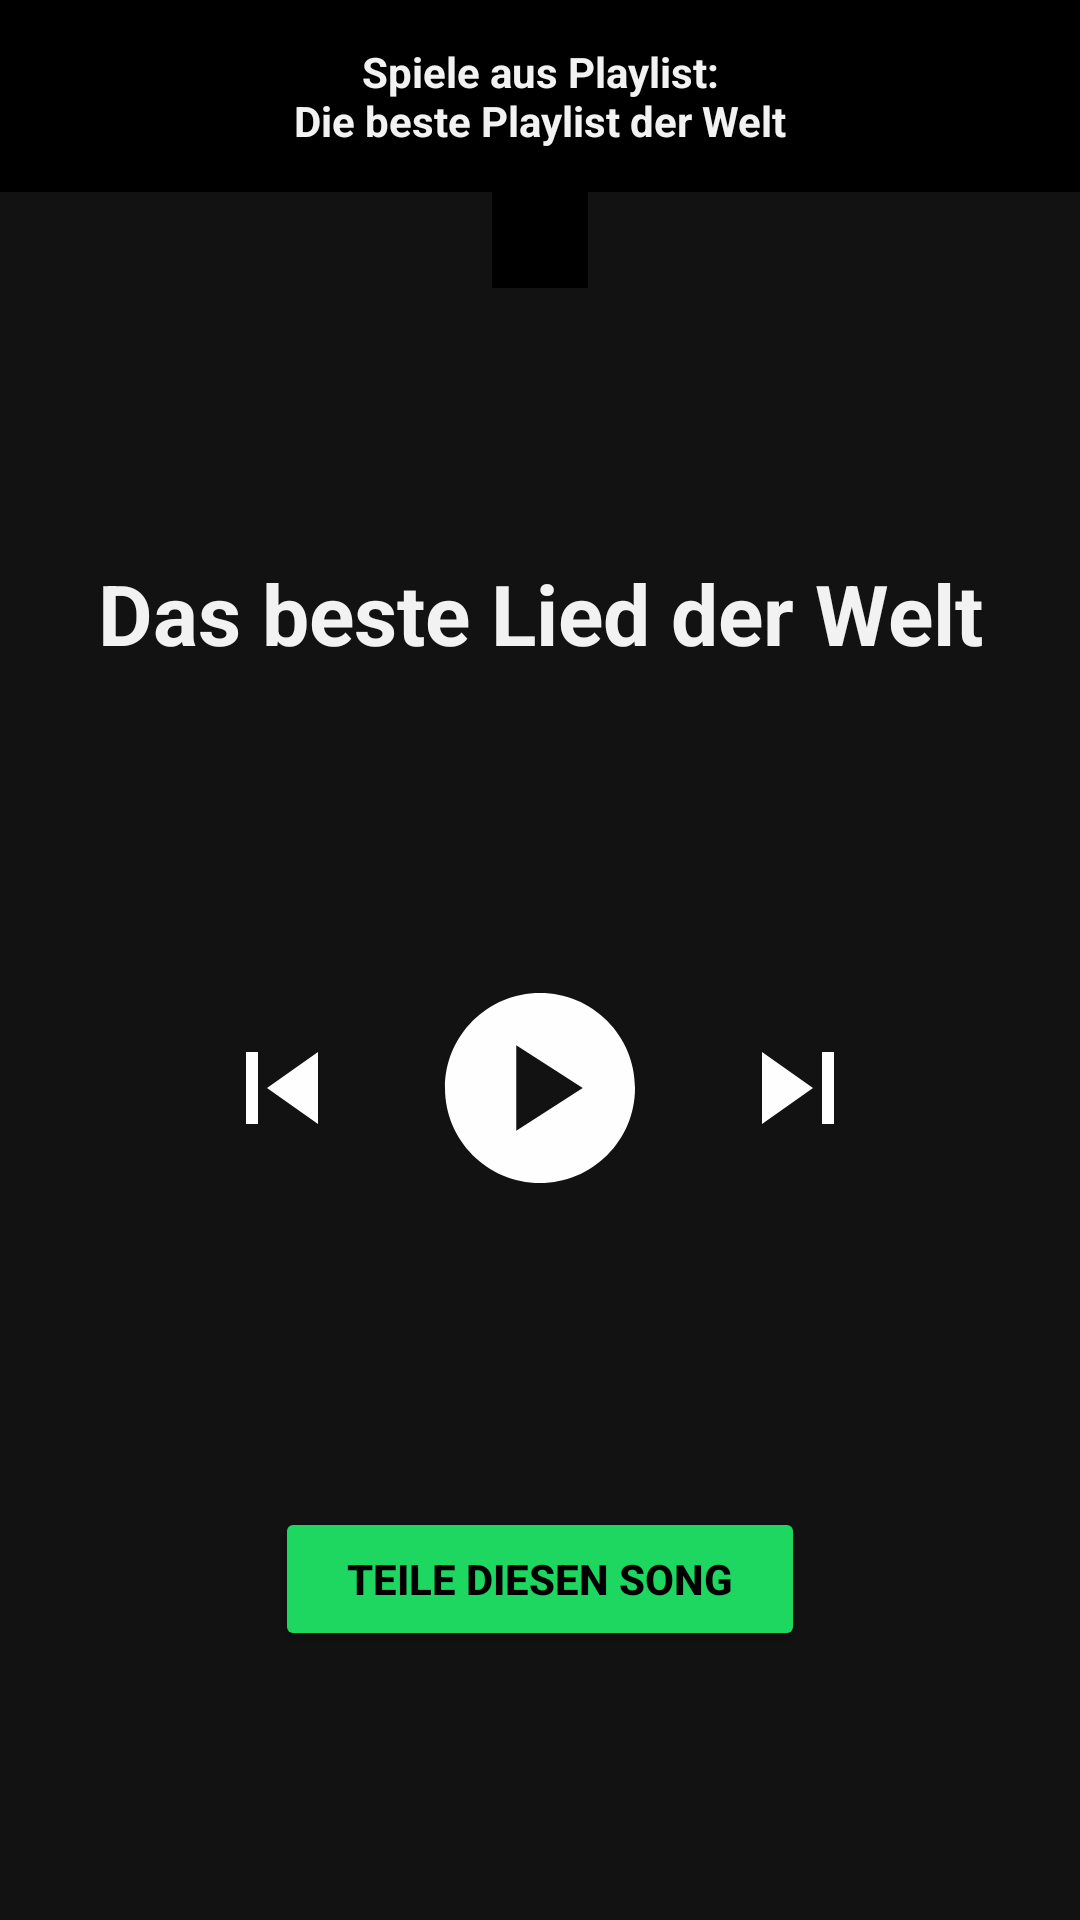

Where to tap for icons on this 1080px x 1920px app screen, as (x=x, y=y):
Nächster Song: (x=798, y=1088)
play: (x=539, y=1088)
Vorheriger Song: (x=282, y=1088)
